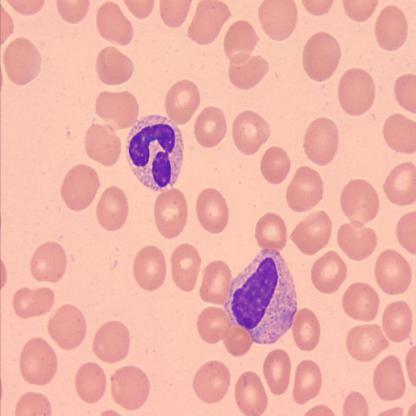Metamyelocyte: (220, 244, 299, 349)
